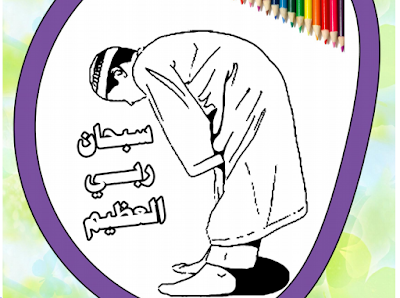ruku: (58, 26, 311, 298)
